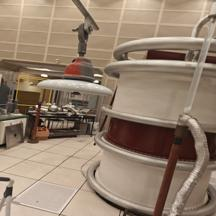insulator: (30, 53, 124, 104)
